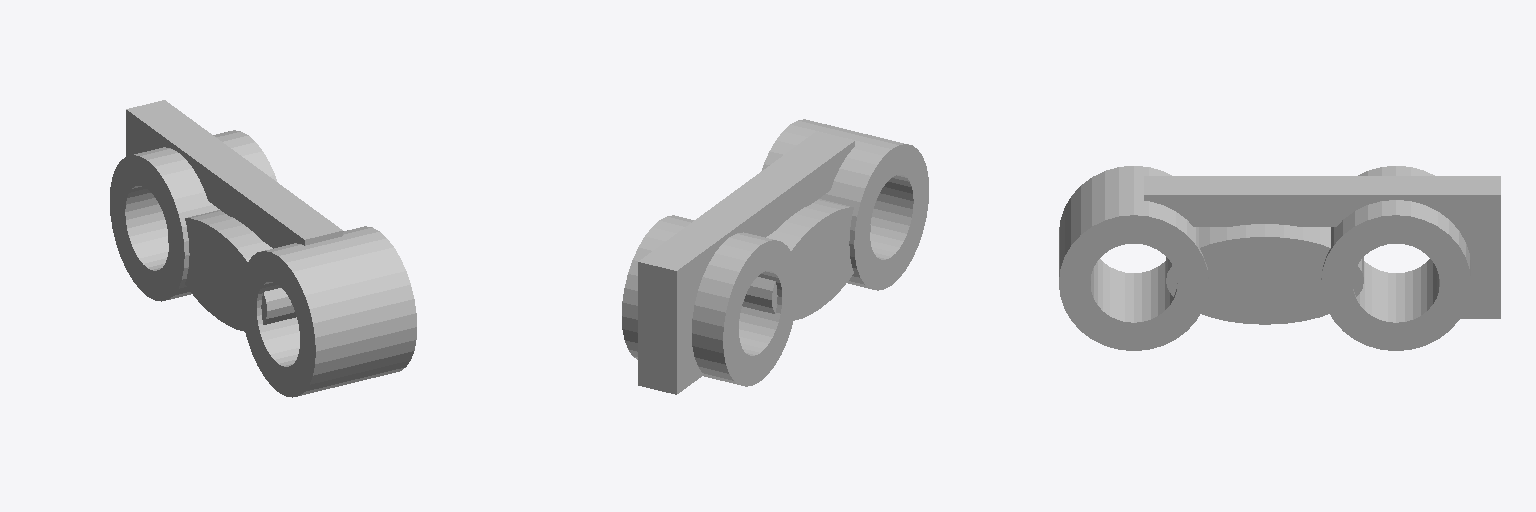
Rendered from bike_frame.obj.
3 views of the same model, side by side, from view 1: azimuth 30°, elevation 25°; view 2: azimuth 150°, elevation 25°; view 3: azimuth 270°, elevation 25° (orthographic).
Visible parts, largest first — view 1: Cube_Cube.003; view 2: Cube_Cube.003; view 3: Cube_Cube.003.
Boxes of the visible parts, x1,y1,x2,y2 form: Cube_Cube.003: [110, 100, 416, 397]; Cube_Cube.003: [622, 119, 928, 394]; Cube_Cube.003: [1059, 166, 1500, 350].
Size of the model in its own units: 1.34 by 1.78 by 5.06.